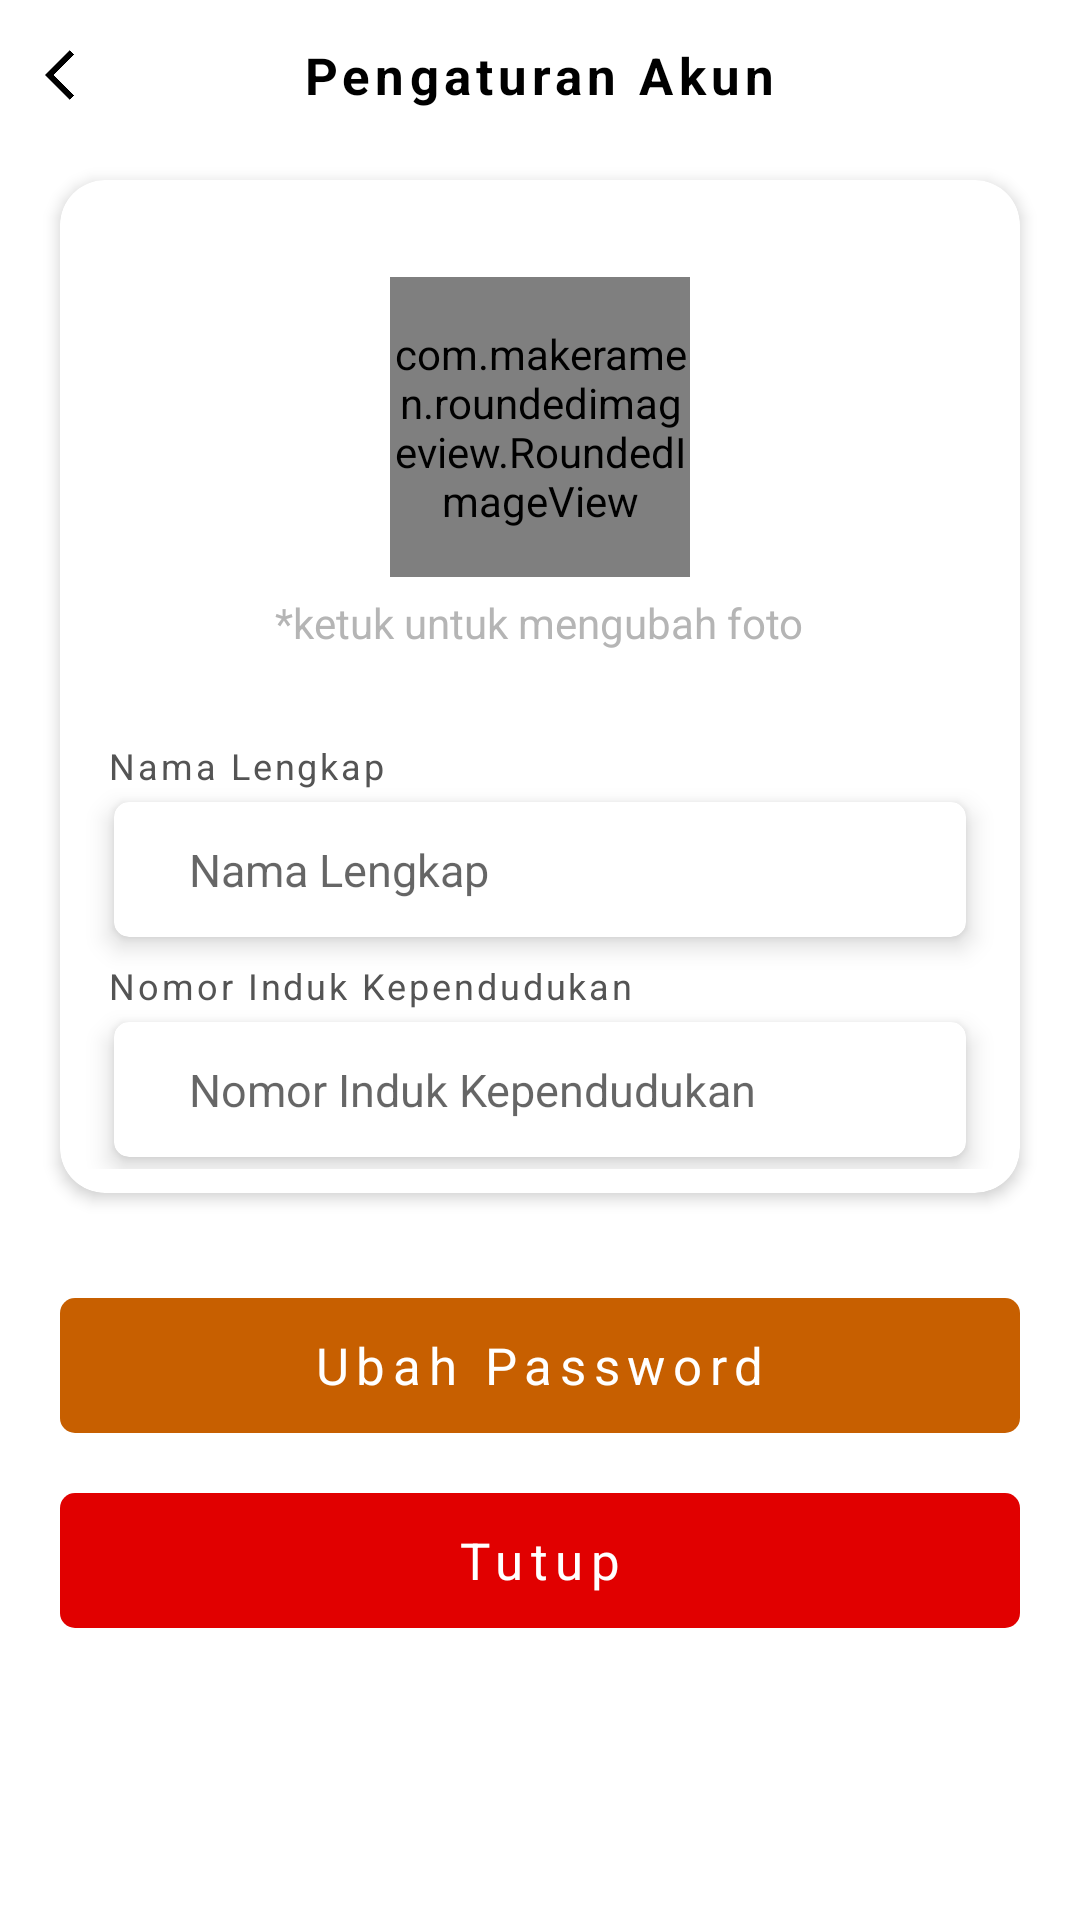

Icons on this 1080*1920 Android screen, each with its box as (x1, y1, x2, y2):
arrow back: (45, 50, 74, 100)
